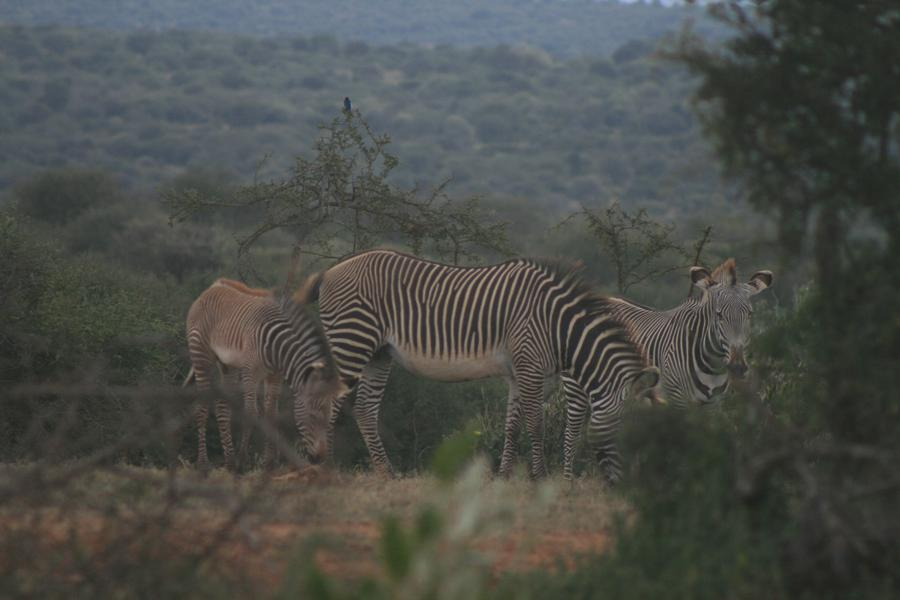zebra_grevys: (317, 250, 547, 385)
